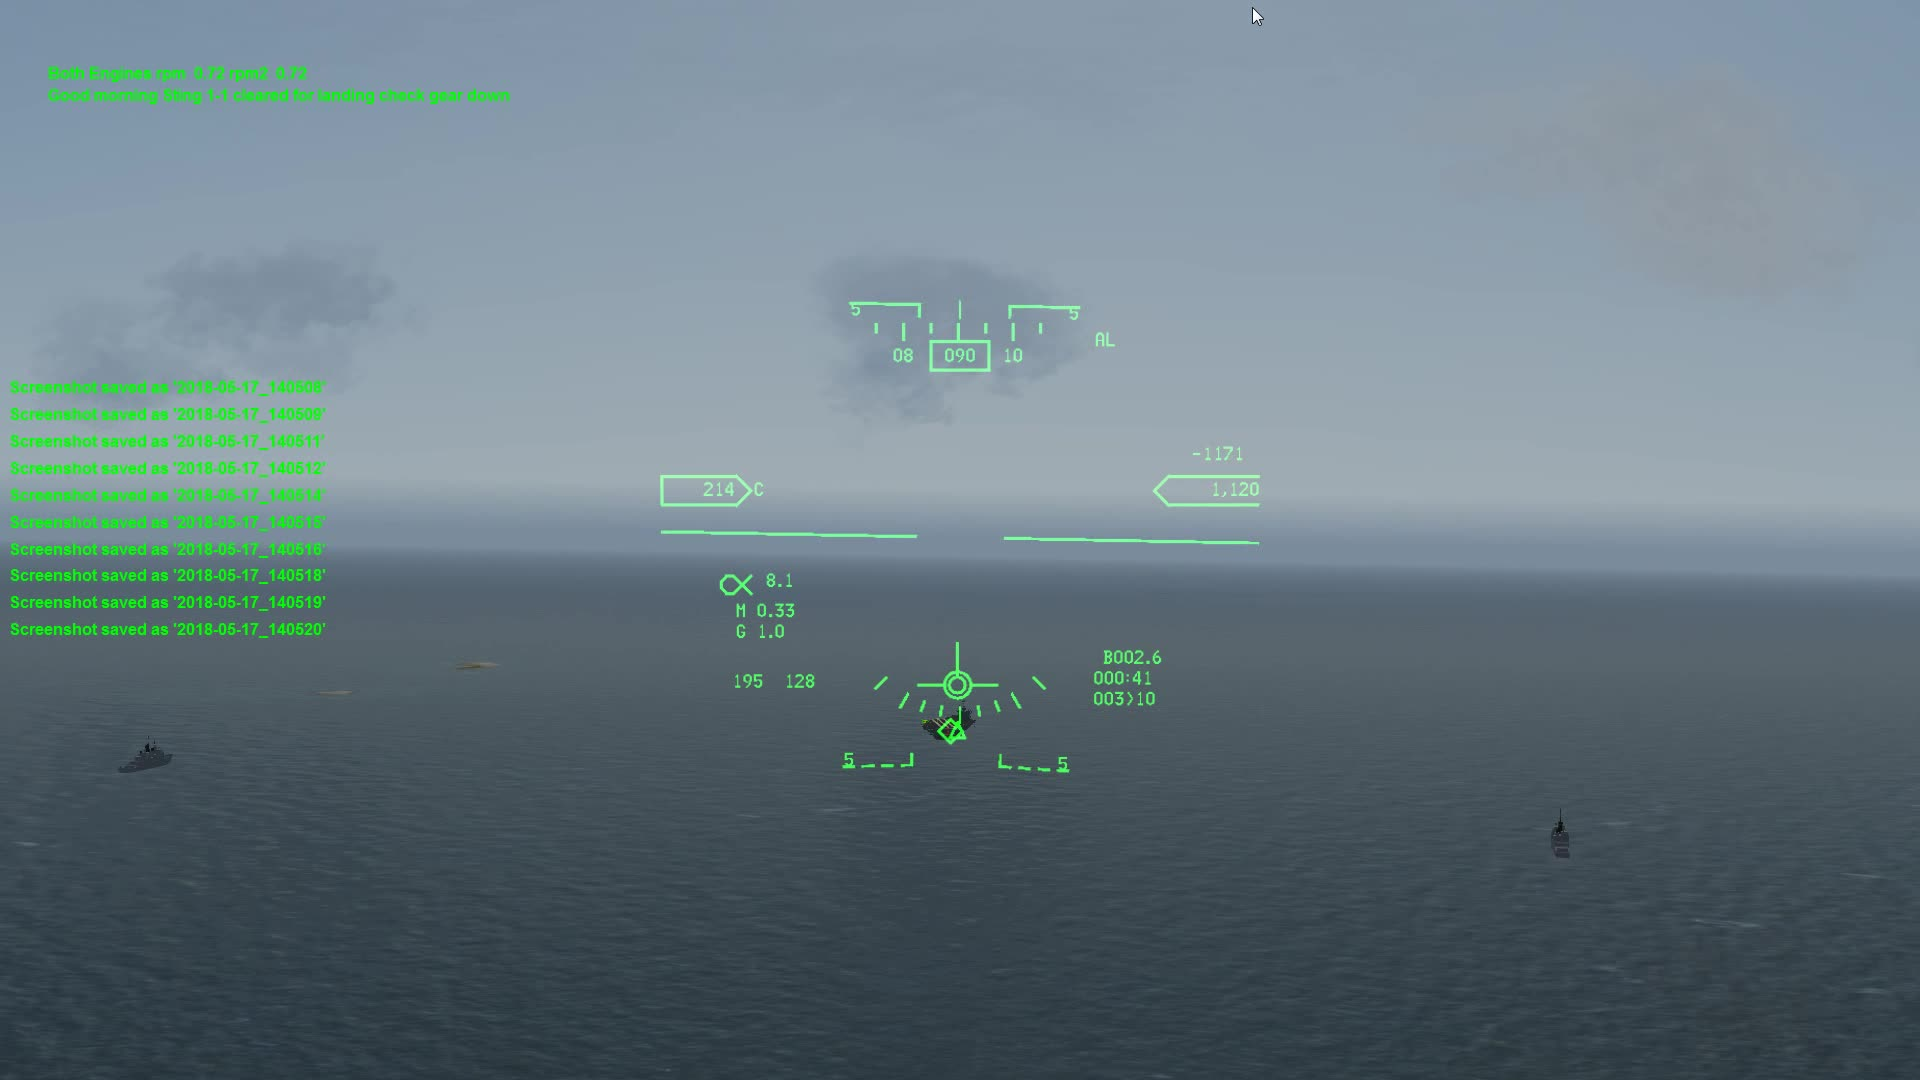speed vector: (920, 645, 997, 709)
